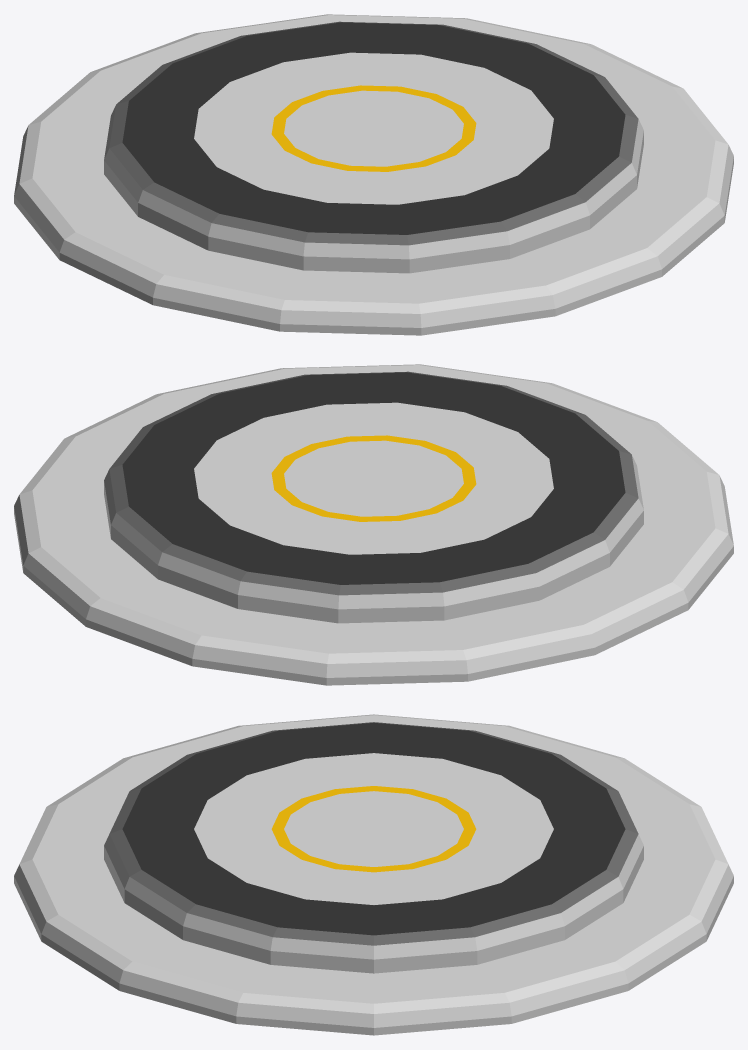
File: RocketLaunchPad.fbx
3 renders of one model, top to bottom at view 1: azimuth 30°, elevation 25°; view 2: azimuth 150°, elevation 25°; view 3: azimuth 270°, elevation 25°, orthographic.
Parts seen in each view (by area): view 1: Plane; view 2: Plane; view 3: Plane.
Part boxes in pixels (x1,y1,x2,y2): Plane: [14, 14, 733, 335]; Plane: [14, 364, 733, 685]; Plane: [14, 714, 733, 1035].
Size of the model in its own units: 200 by 16.64 by 200.
